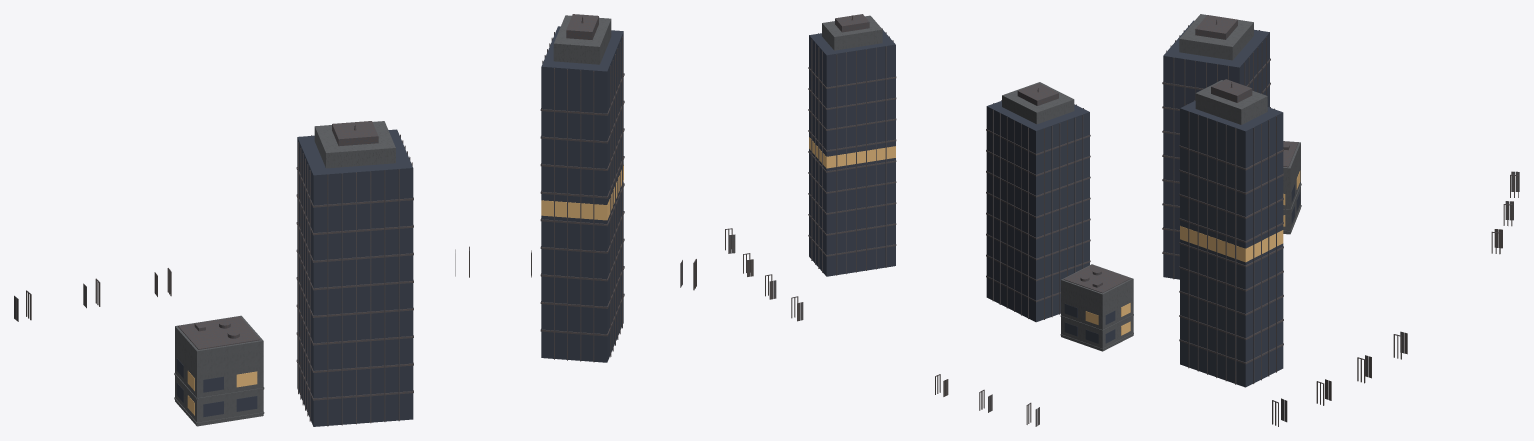
The model's file is SM_City_AbrajAlMalih_1.fbx.
The picture shows the model from 3 angles, left to right: view 1: azimuth 30°, elevation 25°; view 2: azimuth 150°, elevation 25°; view 3: azimuth 270°, elevation 25°; orthographic projection. The views are drawn at different scales.
Visible parts, largest first — view 1: SM_City_AbrajAlMalih_1; view 2: SM_City_AbrajAlMalih_1; view 3: SM_City_AbrajAlMalih_1.
Boxes of the visible parts, x1=… form: SM_City_AbrajAlMalih_1: x1=14, y1=14, x2=696, y2=426; SM_City_AbrajAlMalih_1: x1=725, y1=14, x2=1133, y2=426; SM_City_AbrajAlMalih_1: x1=1162, y1=14, x2=1519, y2=426.
Size of the model in its own units: 7469 by 4228 by 4806.
6 materials, 6 textured.
